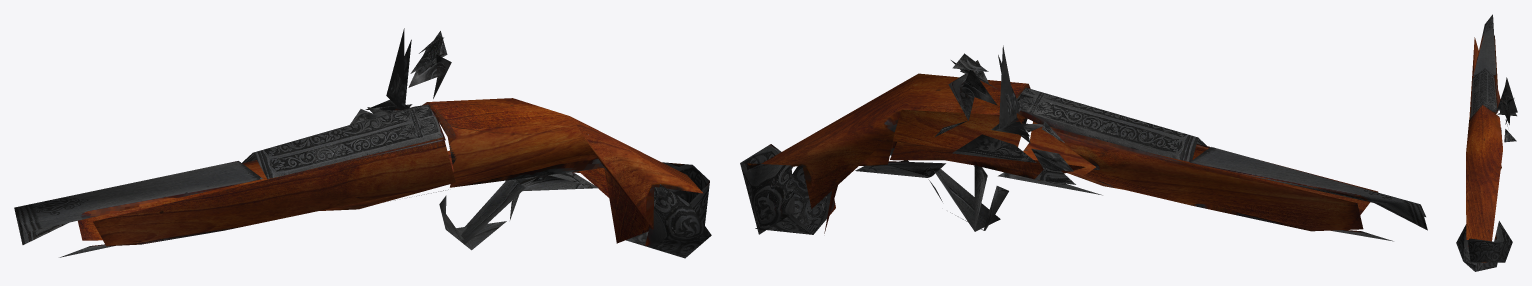
The model's file is flintlock_lod2.glb.
3 views of the same model, side by side, from view 1: azimuth 30°, elevation 25°; view 2: azimuth 150°, elevation 25°; view 3: azimuth 270°, elevation 25° (orthographic). The views are drawn at different scales.
Visible parts, largest first — view 1: flintlock_temp; view 2: flintlock_temp; view 3: flintlock_temp.
Boxes of the visible parts, left/top/right/bottom form: flintlock_temp: left=14, top=28, right=711, bottom=258; flintlock_temp: left=740, top=45, right=1427, bottom=241; flintlock_temp: left=1456, top=14, right=1517, bottom=271.
Bounding box in the file's own units: 0.3544 × 0.1339 × 0.0557.
Materials: 1 (1 with a texture image).
